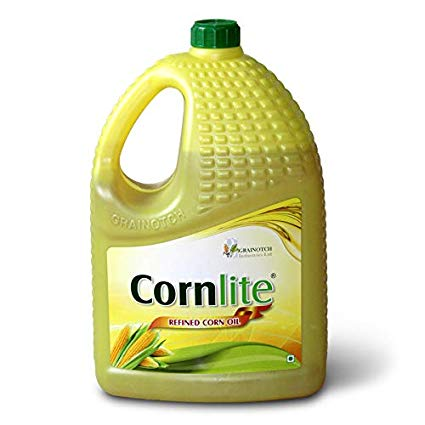VEG: (286, 353, 295, 363)
